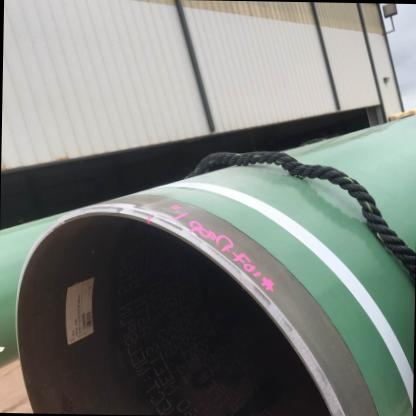Bevel: (44, 211, 73, 234)
